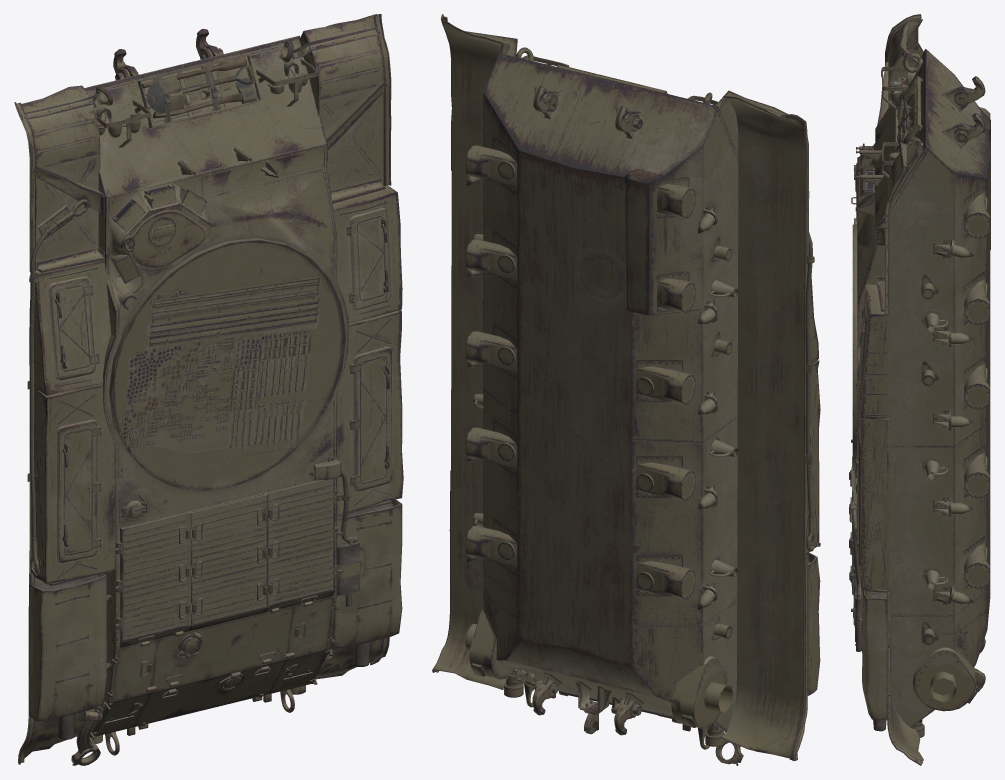
Rendered from Hull.glb.
3 views of the same model, side by side, from view 1: azimuth 30°, elevation 25°; view 2: azimuth 150°, elevation 25°; view 3: azimuth 270°, elevation 25° (orthographic). The views are drawn at different scales.
Parts seen in each view (by area): view 1: set_0_group_0; view 2: set_0_group_0; view 3: set_0_group_0.
Part boxes in pixels (x1=…): set_0_group_0: x1=14, y1=14, x2=403, y2=765; set_0_group_0: x1=432, y1=14, x2=820, y2=765; set_0_group_0: x1=849, y1=14, x2=990, y2=765.
Size of the model in its own units: 3.27 by 5.82 by 1.2.
Materials: 1 (1 with a texture image).
